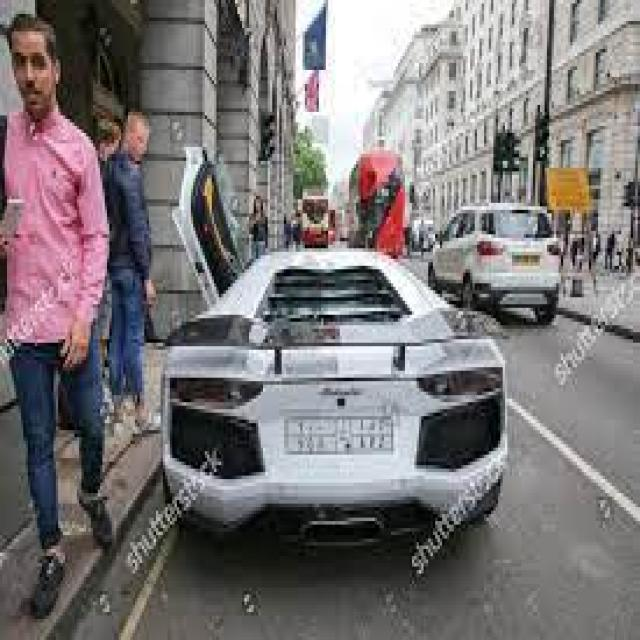license_plate: (272, 392, 403, 468), (498, 231, 549, 280)
